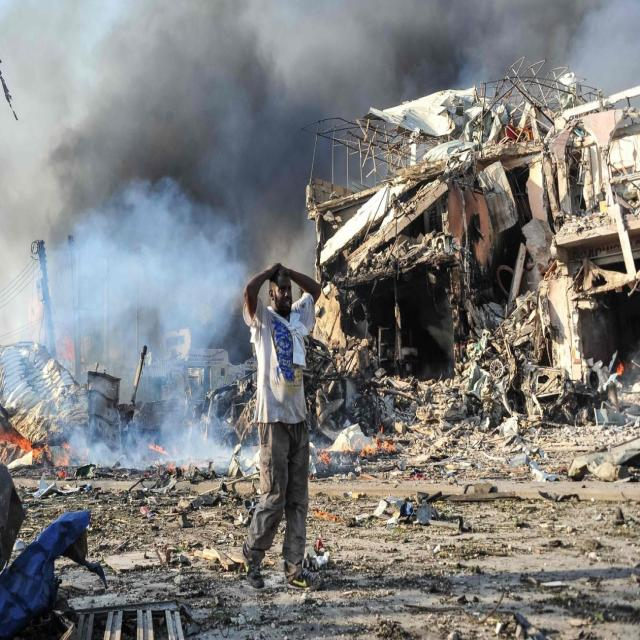smoke: (31, 141, 232, 464), (40, 1, 404, 101)
